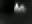person: (20, 5, 27, 17), (15, 3, 21, 15)
